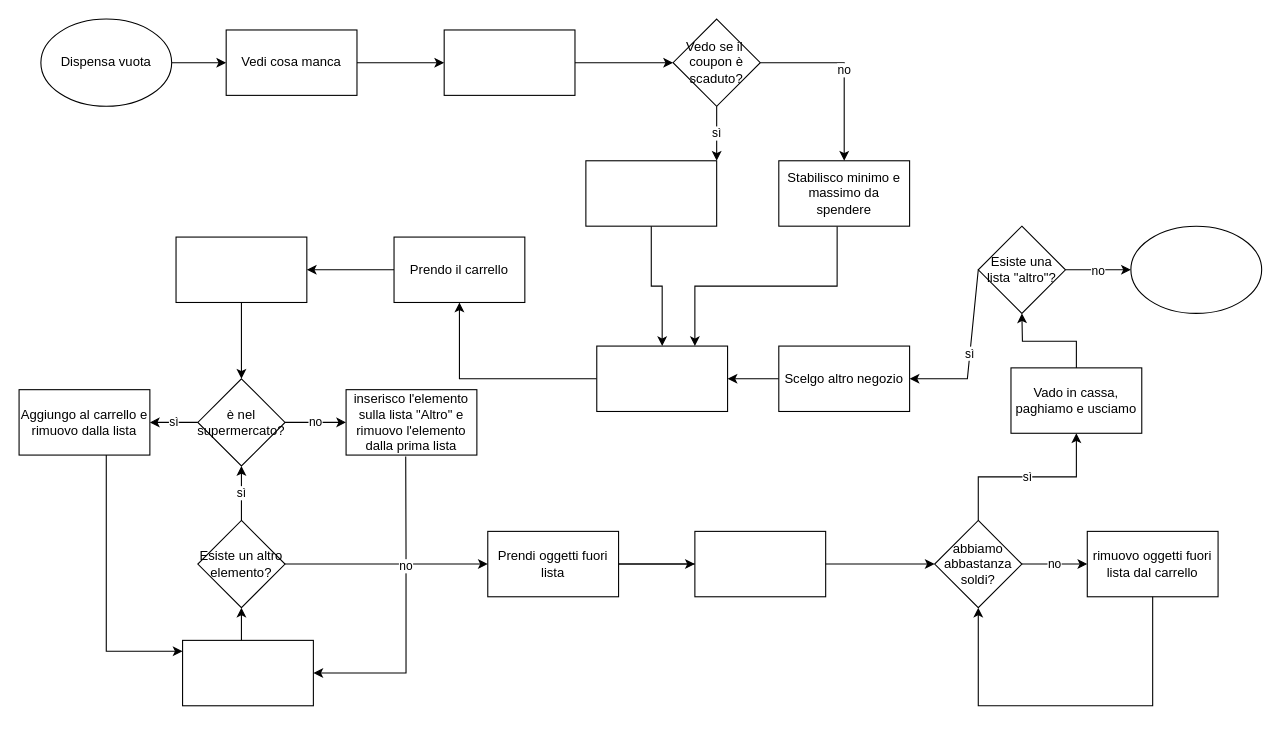
Image size: 1281x734. Some labels were removed from this diagram. Each missing label, with the box of its shape:
Controllo budget: (694, 530, 826, 597)
Controllo di tutti gli elementi che sono sulla lista: (175, 236, 307, 302)
passo all'elemento successivo: (181, 639, 313, 706)
Scrivo Lista Spesa: (443, 29, 575, 95)
Stabilisco massimo da spendere: (585, 160, 717, 226)
Torno a casa: (1130, 225, 1262, 313)
Vado al negozio: (596, 345, 728, 411)
